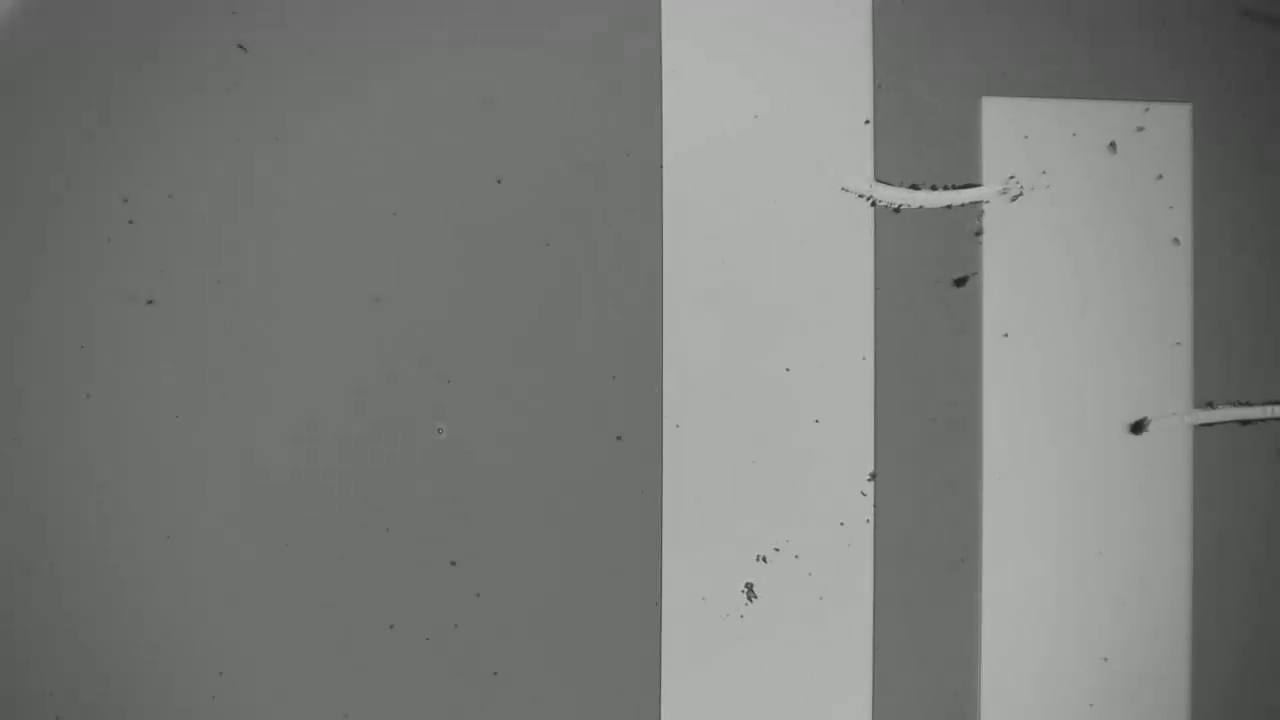Short_circuit: (839, 167, 1002, 240), (1167, 388, 1279, 436)
